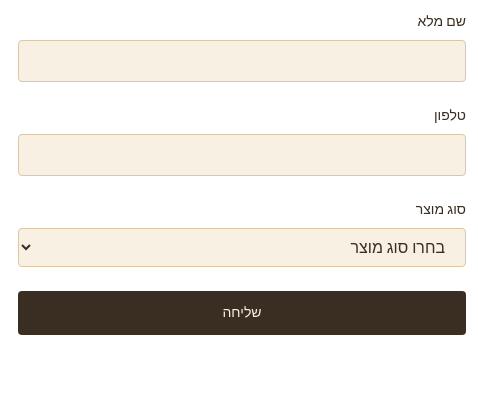
it: ContactForm › shows an error message when EmailJS rejects
In the field labelled "שם מלא": coordinates (242, 61) [18,40,466,82], type "יעקב"
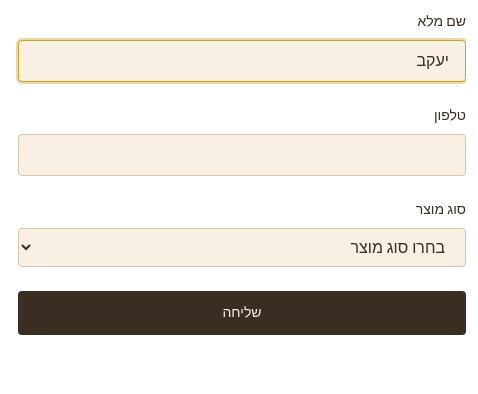
In the field labelled "טלפון": coordinates (242, 155) [18,134,466,176], type "0526286837"
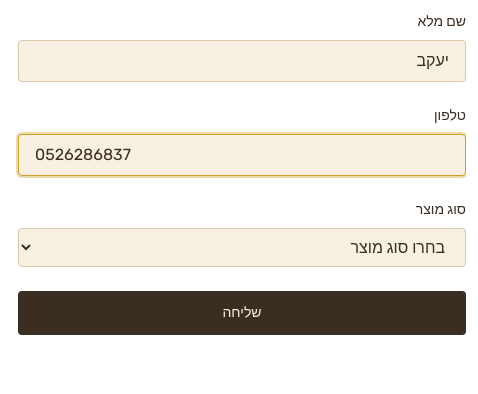
Select "וילונות" in the dropdown labelled "סוג מוצר": coordinates (242, 248) [18,228,466,267]
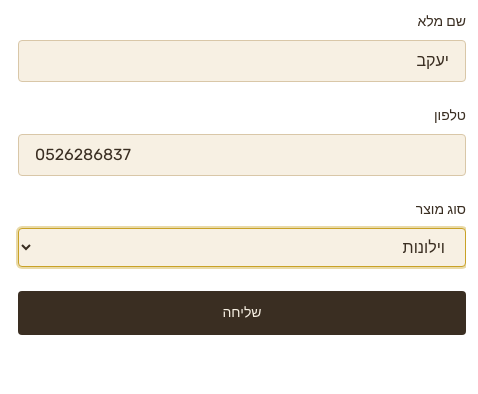
Click the button "שליחה": coordinates (242, 313) [18,291,466,335]
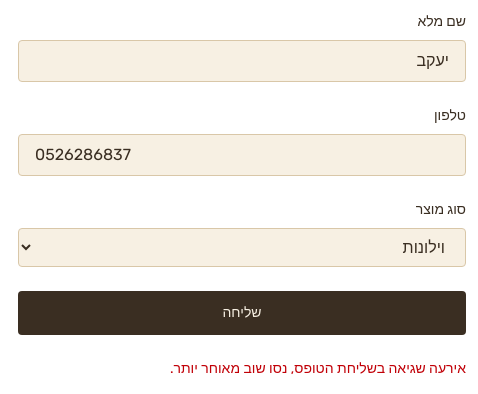
Check: the text "אירעה שגיאה בשליחת הטופס, נסו שוב מאוחר יותר." is shown, box [170,360,466,377]
